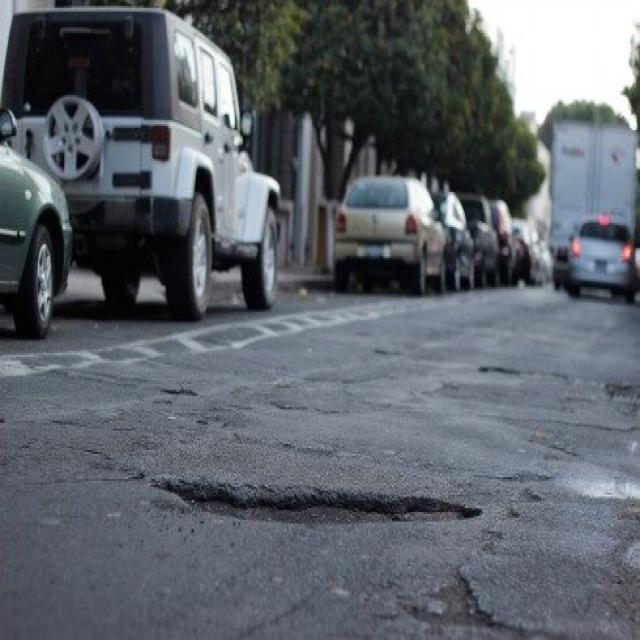Pothole: (123, 433, 524, 572)
